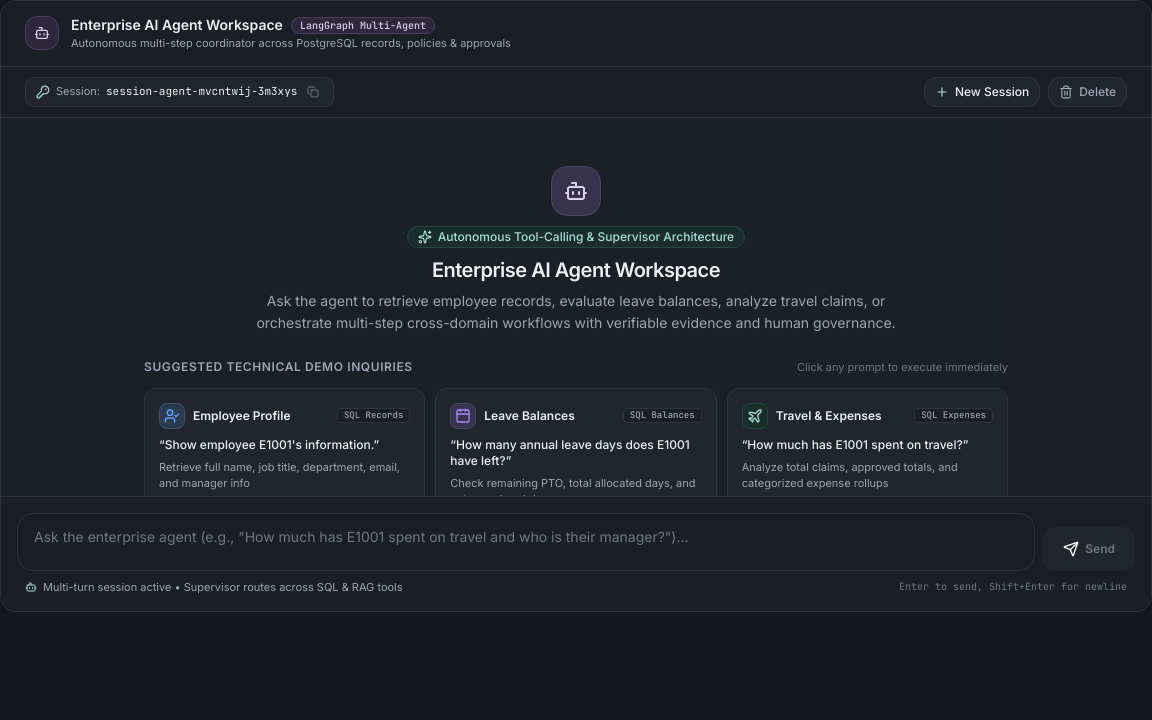
AgentChatWorkspace › sends prompt from demo query and renders multi-step agent answer
This screenshot has width=1152, height=720.
Click the button "Show employee E1001's information" at (285, 473), box [144,388,425,558]
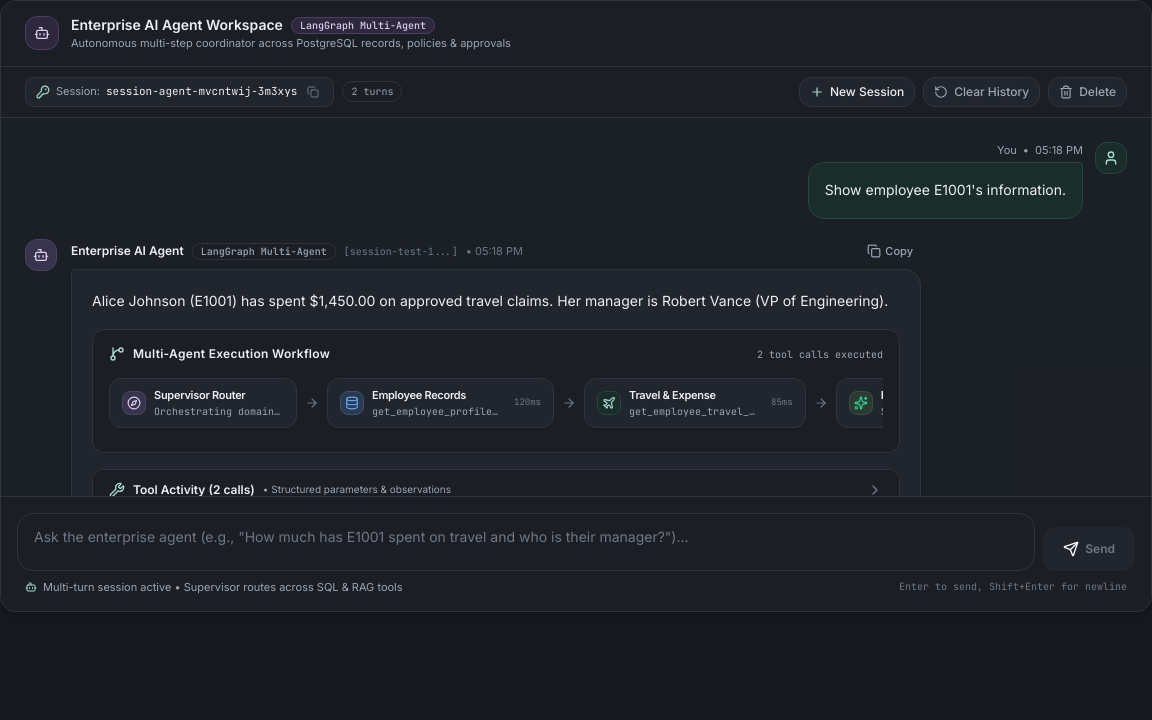
Now the text "Alice Johnson (E1001) has spent $1,450.00 on approved travel claims. Her manager is Robert Vance (VP of Engineering)." is shown, box [92,292,888,309]
Now the heading "Multi-Agent Execution Workflow" is shown, box [133,346,330,362]
